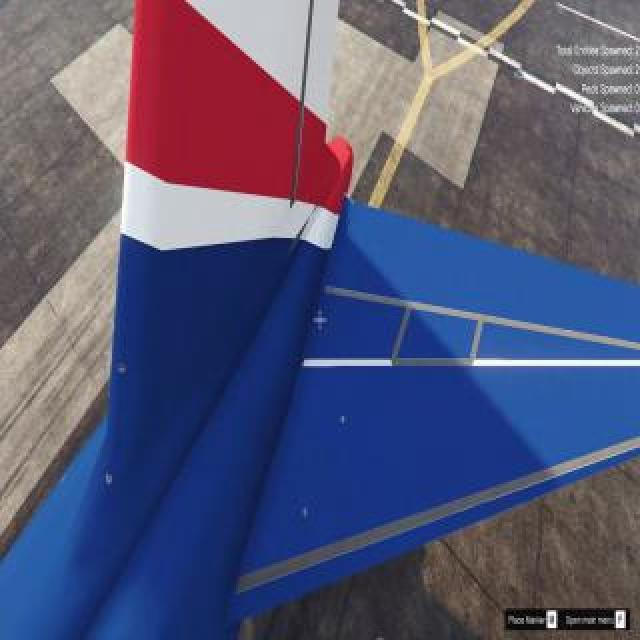crack: (117, 360, 129, 376), (105, 470, 115, 488), (303, 505, 311, 523), (341, 416, 349, 428)
